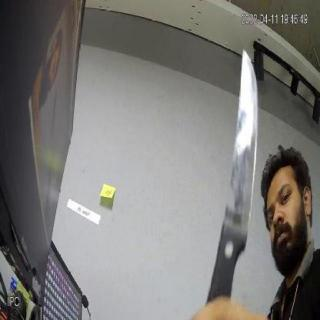knife: (211, 42, 258, 264)
